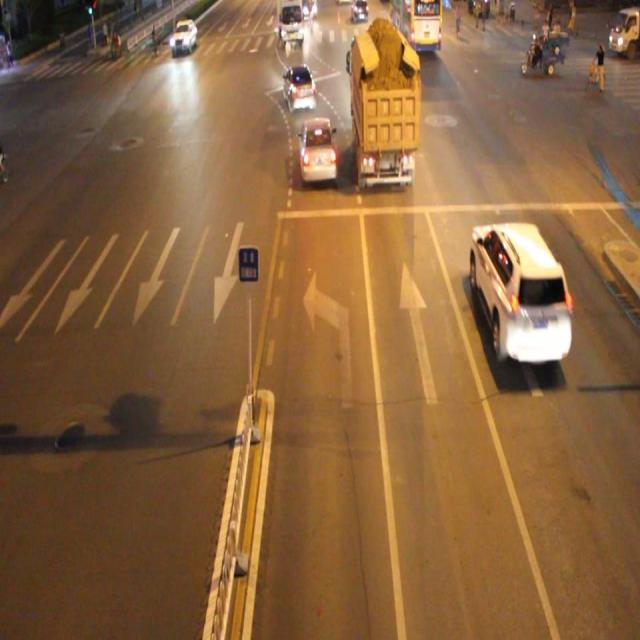bus: (350, 32, 415, 184)
car: (471, 222, 570, 362), (297, 116, 338, 181), (282, 65, 316, 112)
